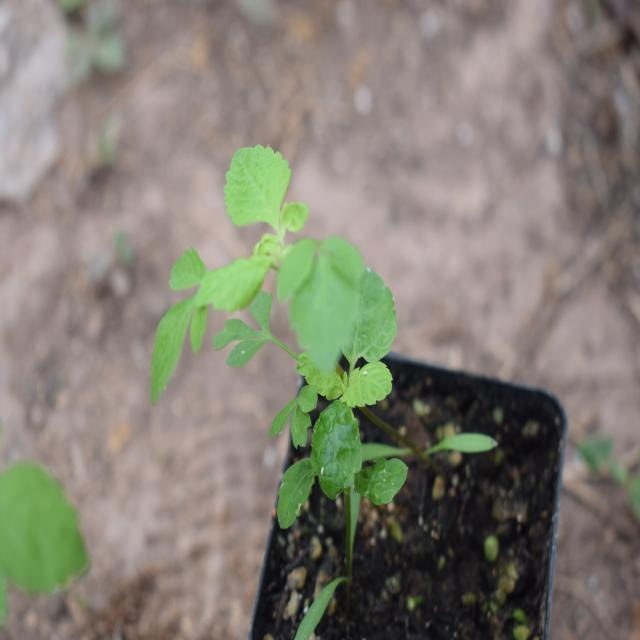Bidens pilosa: (154, 125, 456, 529)
